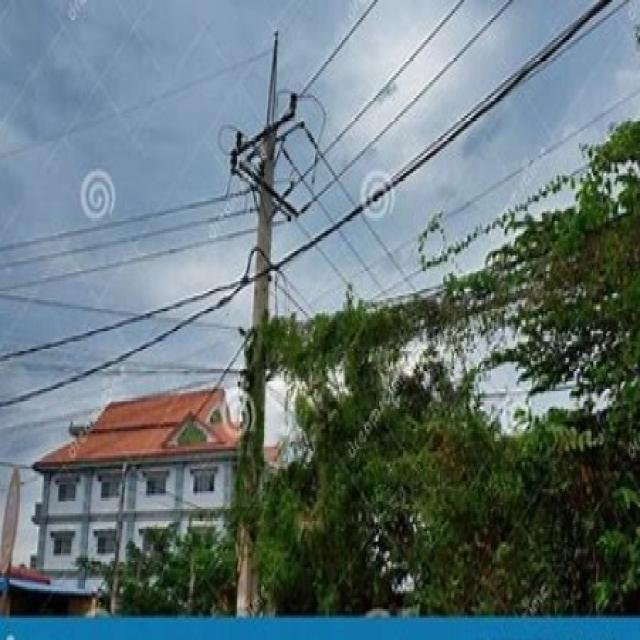critical vegetation: (252, 272, 638, 390)
